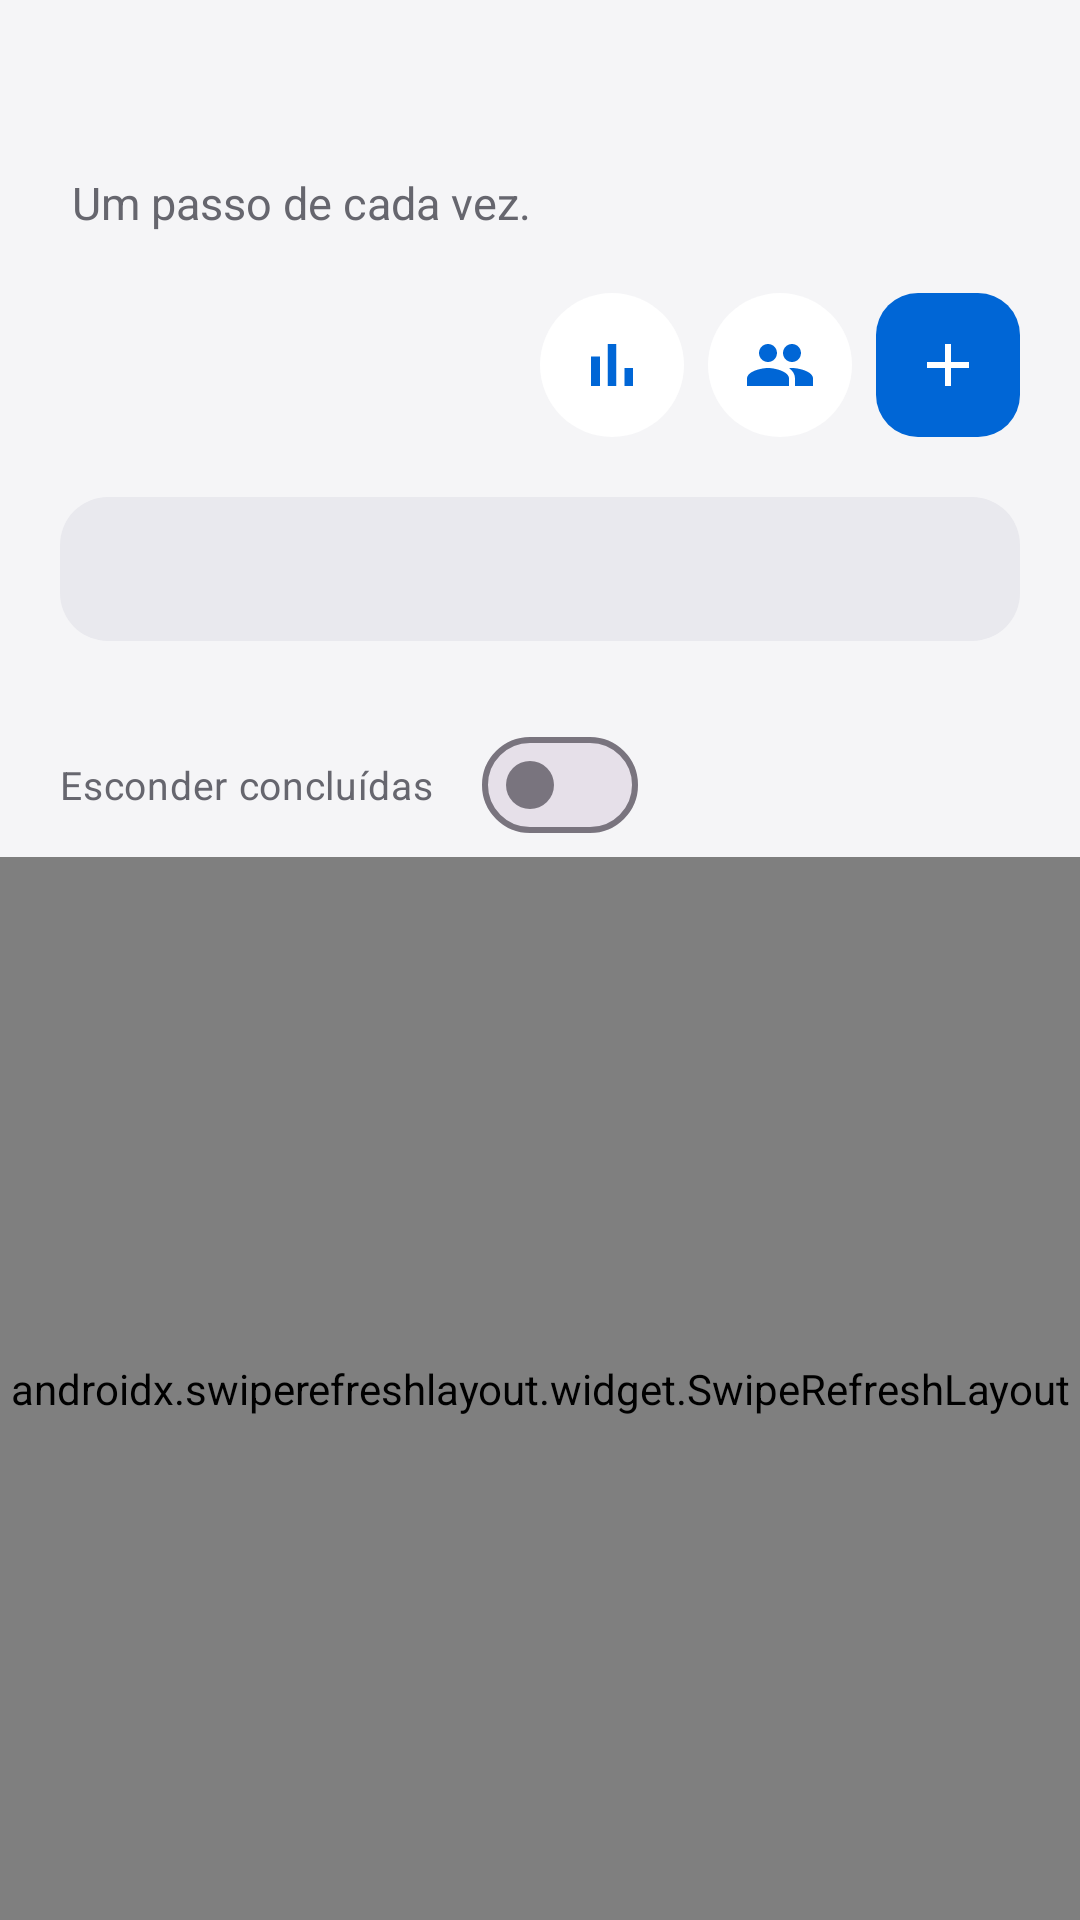

Screen size 1080 x 1920. Icon name, then its center in pixels as [x,y]:
Membros: [780,365]
Nova tarefa: [948,365]
Relatório: [612,365]
